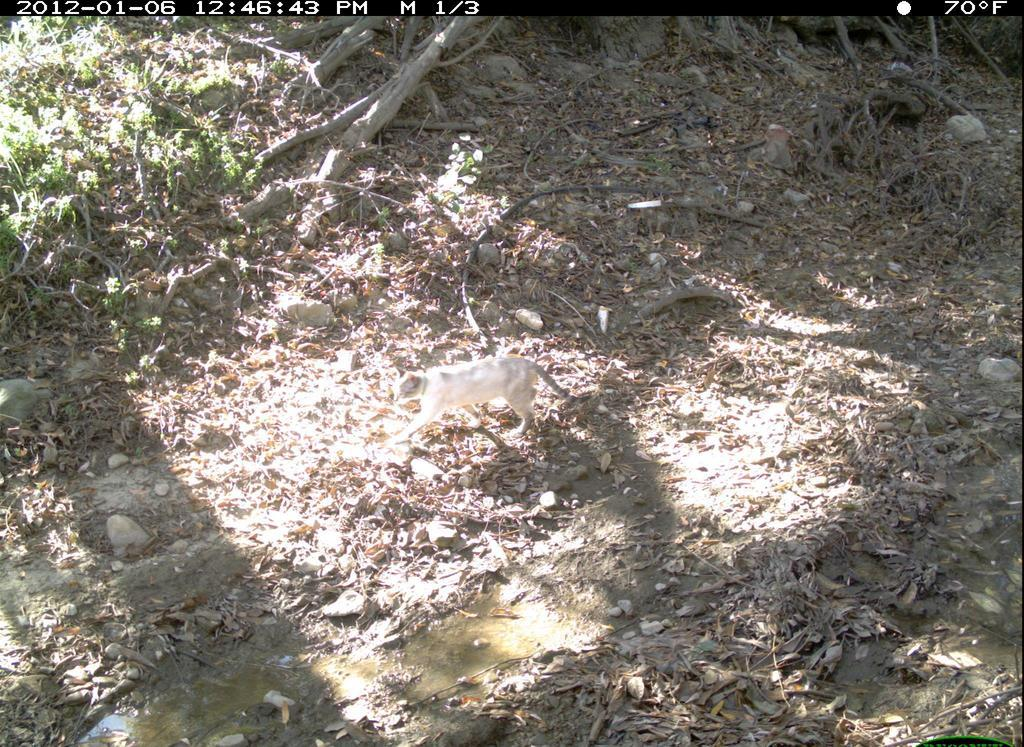cat: (374, 346, 591, 456)
